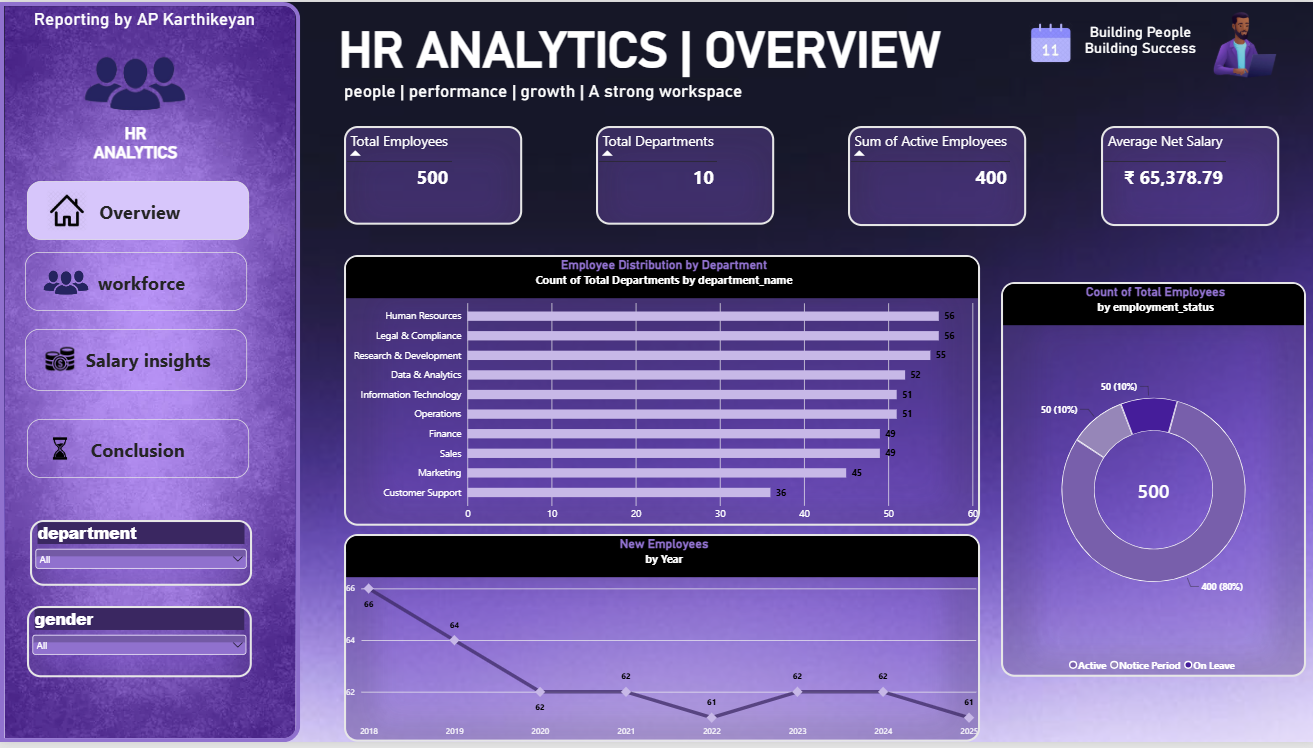

Layout of this report page (visuals, bound fields, positions):
{"tool":"powerbi","page":{"name":" Page 1","canvas":[1920,1080],"ordinal":0},"visuals":[{"type":"image","box":[0,0,437.7,1079.6],"z":0},{"type":"textbox","title":"HR ANALYTICS","box":[124,178,147.4,64.2],"z":1000},{"type":"textbox","title":"HR ANALYTICS | OVERVIEW","box":[437.7,27.7,992.1,87.5],"z":2000},{"type":"image","box":[108,27.7,180.9,175.1],"z":3000},{"type":"textbox","box":[39.4,261.2,323.9,86.1],"z":4000},{"type":"image","box":[67.1,261.2,61.3,86.1],"z":5000},{"type":"textbox","box":[36.5,364.7,323.9,86.1],"z":6000},{"type":"textbox","box":[39.4,608.4,323.9,86.1],"z":7000},{"type":"textbox","box":[36.5,477.1,323.9,90.5],"z":8000},{"type":"image","box":[56.9,366.2,80.2,83.2],"z":9000},{"type":"image","box":[56.9,478.5,61.3,86.1],"z":10000},{"type":"image","box":[56.9,608.4,61.3,86.1],"z":11000},{"type":"slicer","fields":{"Values":["hr_analytics employees.gender"]},"box":[39.4,881.2,328.3,103.6],"z":12000},{"type":"slicer","fields":{"Values":["hr_analytics departments.department_name"]},"box":[43.8,755.7,323.9,96.3],"z":13000},{"type":"textbox","title":"people  |  performance |   growth   |    A strong workspace","box":[501.9,115.3,795.1,33.6],"z":14000},{"type":"image","box":[1496.9,27.7,71.5,64.2],"z":15000},{"type":"textbox","title":"Building People Building Success","box":[1568.4,30.6,191.1,84.6],"z":16000},{"type":"image","box":[1749.3,10.2,134.2,105],"z":17000},{"type":"tableEx","fields":{"Values":["hr_analytics employees.Total Employees"]},"box":[501.9,180.9,259.7,144.4],"z":18000},{"type":"tableEx","fields":{"Values":["hr_analytics employees.Average Net Salary"]},"box":[1606.3,180.9,259.7,145.9],"z":19000},{"type":"tableEx","fields":{"Values":["hr_analytics employees.Total Departments"]},"box":[869.5,180.9,259.7,144.4],"z":20000},{"type":"tableEx","fields":{"Values":["Sum(hr_analytics employees.Active Employees)"]},"box":[1237.2,180.9,259.7,145.9],"z":21000},{"type":"clusteredBarChart","title":"Employee Distribution by Department","fields":{"Category":["hr_analytics departments.department_name"],"Y":["CountNonNull(hr_analytics employees.Total Departments)"]},"box":[501.9,369.1,927.9,395.4],"z":22000},{"type":"donutChart","fields":{"Category":["hr_analytics employees.employment_status"],"Y":["CountNonNull(hr_analytics employees.Total Employees)"]},"box":[1460.4,408.5,445,576.3],"z":23000},{"type":"lineChart","fields":{"Category":["hr_analytics employees.joining_date.Variation.Date Hierarchy.Year","hr_analytics employees.joining_date.Variation.Date Hierarchy.Quarter","hr_analytics employees.joining_date.Variation.Date Hierarchy.Month","hr_analytics employees.joining_date.Variation.Date Hierarchy.Day"],"Y":["hr_analytics attendance.New Employees"]},"box":[501.9,776.2,927.9,303.5],"z":24000},{"type":"textbox","title":"Reporting  by AP Karthikeyan","box":[49.6,10.2,350.2,35],"z":25000}]}

Visuals, with their boxes in screenshot pixels (x1, y1, x2, y2), scaled from the page's 1920x1080 canvas onto the 1313x748 screenshot:
image: Rect(0, 0, 299, 747)
"HR ANALYTICS" textbox: Rect(85, 123, 186, 168)
"HR ANALYTICS | OVERVIEW" textbox: Rect(299, 19, 978, 80)
image: Rect(74, 19, 198, 140)
textbox: Rect(27, 181, 248, 241)
image: Rect(46, 181, 88, 241)
textbox: Rect(25, 253, 246, 312)
textbox: Rect(27, 421, 248, 481)
textbox: Rect(25, 330, 246, 393)
image: Rect(39, 254, 94, 311)
image: Rect(39, 331, 81, 391)
image: Rect(39, 421, 81, 481)
slicer - hr_analytics employees.gender: Rect(27, 610, 251, 682)
slicer - hr_analytics departments.department_name: Rect(30, 523, 251, 590)
"people  |  performance |   growth   |    A strong workspace" textbox: Rect(343, 80, 887, 103)
image: Rect(1024, 19, 1073, 64)
"Building People Building Success" textbox: Rect(1073, 21, 1203, 80)
image: Rect(1196, 7, 1288, 80)
tableEx - hr_analytics employees.Total Employees: Rect(343, 125, 521, 225)
tableEx - hr_analytics employees.Average Net Salary: Rect(1098, 125, 1276, 226)
tableEx - hr_analytics employees.Total Departments: Rect(595, 125, 772, 225)
tableEx - Sum(hr_analytics employees.Active Employees): Rect(846, 125, 1024, 226)
"Employee Distribution by Department" clusteredBarChart: Rect(343, 256, 978, 529)
donutChart - hr_analytics employees.employment_status x CountNonNull(hr_analytics employees.Total Employees): Rect(999, 283, 1303, 682)
lineChart - hr_analytics employees.joining_date.Variation.Date Hierarchy.Year x hr_analytics employees.joining_date.Variation.Date Hierarchy.Quarter: Rect(343, 538, 978, 747)
"Reporting  by AP Karthikeyan" textbox: Rect(34, 7, 273, 31)
